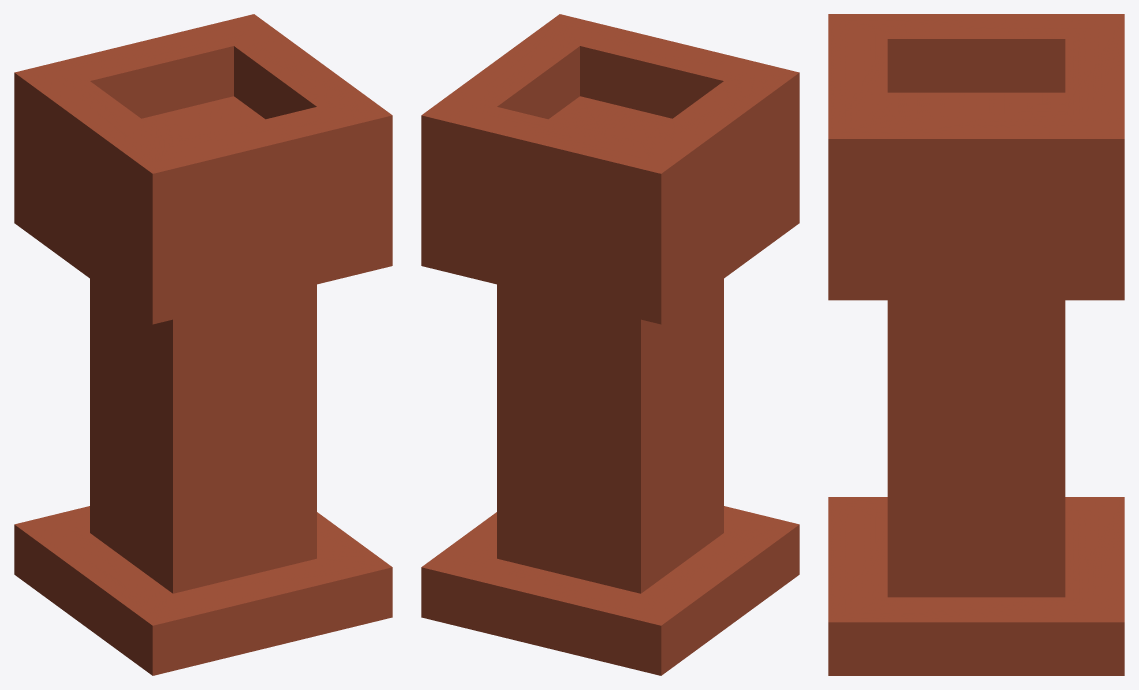
Rendered from ground_torch_b_a_unlit.obj.
3 renders of one model, left to right at view 1: azimuth 30°, elevation 25°; view 2: azimuth 150°, elevation 25°; view 3: azimuth 270°, elevation 25°, orthographic. The views are drawn at different scales.
Size of the model in its own units: 0.5 by 1 by 0.5.
Materials: 1 (1 with a texture image).
